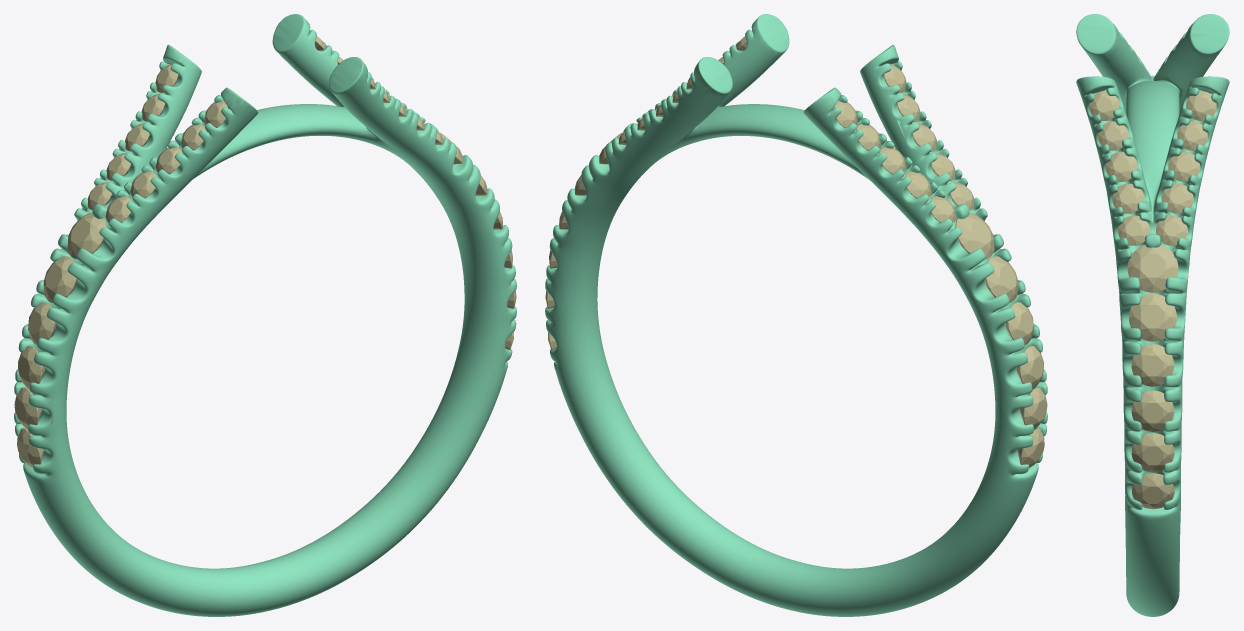
3 views of the same model, side by side, from view 1: azimuth 30°, elevation 25°; view 2: azimuth 150°, elevation 25°; view 3: azimuth 270°, elevation 25° (orthographic).
Visible parts, largest first — view 1: Metal02, Diamond_Gem.005, Diamond_Gem.006, Diamond_Gem.007, Diamond_Gem.008, Diamond_Gem.009; view 2: Metal02, Diamond_Gem.005, Diamond_Gem.006, Diamond_Gem.007, Diamond_Gem.008, Diamond_Gem.009; view 3: Metal02, Diamond_Gem.026, Diamond_Gem.025, Diamond_Gem.024, Diamond_Gem.023, Diamond_Gem.022, Diamond_Gem.021, Diamond_Gem.027, Diamond_Gem.020, Diamond_Gem.019, Diamond_Gem.028, Diamond_Gem.029 (+5 smaller).
Part boxes in pixels (bbox=[...]): Metal02: bbox=[14, 14, 516, 616]; Diamond_Gem.005: bbox=[67, 212, 106, 259]; Diamond_Gem.006: bbox=[43, 256, 76, 302]; Diamond_Gem.007: bbox=[28, 302, 56, 344]; Diamond_Gem.008: bbox=[18, 346, 45, 388]; Diamond_Gem.009: bbox=[14, 387, 41, 429]; Metal02: bbox=[545, 14, 1047, 616]; Diamond_Gem.005: bbox=[955, 212, 994, 259]; Diamond_Gem.006: bbox=[985, 256, 1018, 302]; Diamond_Gem.007: bbox=[1005, 302, 1033, 344]; Diamond_Gem.008: bbox=[1016, 346, 1043, 388]; Diamond_Gem.009: bbox=[1020, 387, 1047, 429]; Metal02: bbox=[1076, 14, 1229, 616]; Diamond_Gem.026: bbox=[1127, 245, 1178, 292]; Diamond_Gem.025: bbox=[1129, 293, 1176, 341]; Diamond_Gem.024: bbox=[1131, 344, 1174, 386]; Diamond_Gem.023: bbox=[1131, 390, 1174, 431]; Diamond_Gem.022: bbox=[1131, 433, 1174, 472]; Diamond_Gem.021: bbox=[1132, 473, 1174, 509]; Diamond_Gem.027: bbox=[1118, 215, 1149, 245]; Diamond_Gem.020: bbox=[1156, 215, 1187, 245]; Diamond_Gem.019: bbox=[1161, 183, 1193, 213]; Diamond_Gem.028: bbox=[1112, 183, 1144, 213]; Diamond_Gem.029: bbox=[1105, 151, 1137, 181].
Size of the model in its own units: 20.82 by 22.53 by 5.73.
